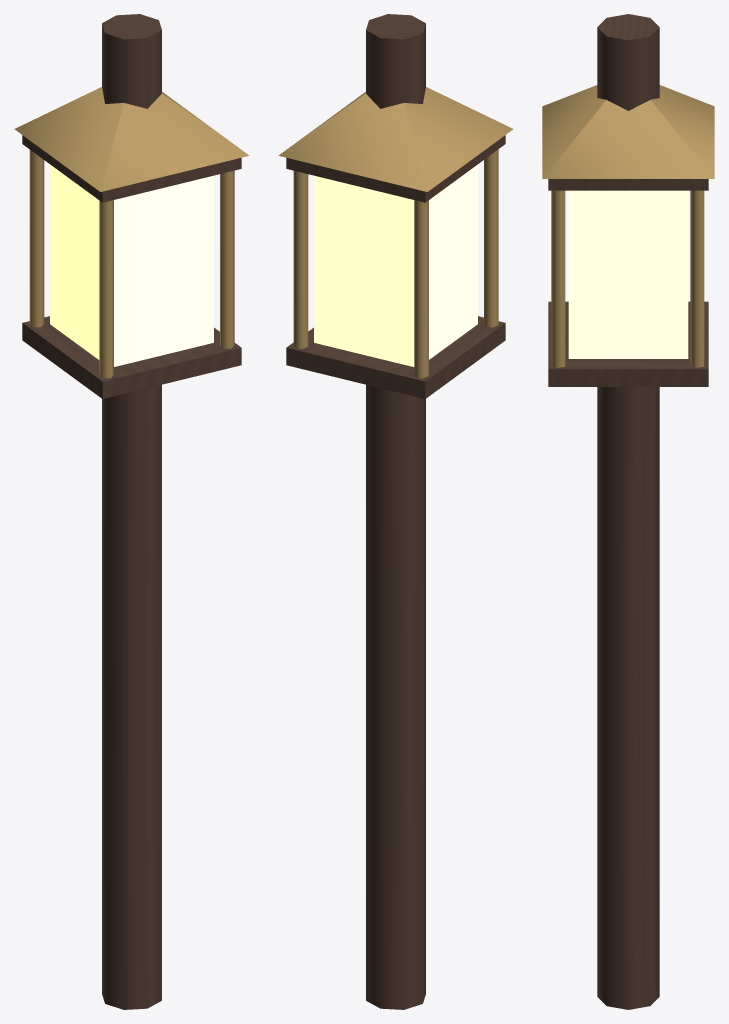
The model's file is detail-lantern.glb.
The picture shows the model from 3 angles, left to right: view 1: azimuth 30°, elevation 25°; view 2: azimuth 150°, elevation 25°; view 3: azimuth 270°, elevation 25°; orthographic projection.
Visible parts, largest first — view 1: detail-lantern_wood, detail-lantern_flame, detail-lantern_gold; view 2: detail-lantern_wood, detail-lantern_flame, detail-lantern_gold; view 3: detail-lantern_wood, detail-lantern_flame, detail-lantern_gold.
Boxes of the visible parts, left/top/right/bottom form: detail-lantern_wood: left=22, top=14, right=241, bottom=1009; detail-lantern_flame: left=50, top=164, right=213, bottom=366; detail-lantern_gold: left=14, top=87, right=249, bottom=378; detail-lantern_wood: left=286, top=14, right=505, bottom=1009; detail-lantern_flame: left=314, top=164, right=477, bottom=366; detail-lantern_gold: left=278, top=87, right=513, bottom=378; detail-lantern_wood: left=548, top=14, right=708, bottom=1009; detail-lantern_flame: left=568, top=190, right=688, bottom=358; detail-lantern_gold: left=542, top=85, right=714, bottom=367.
Size of the model in its own units: 0.2495 by 1.55 by 0.2495.
Materials: 3 (1 with a texture image).
